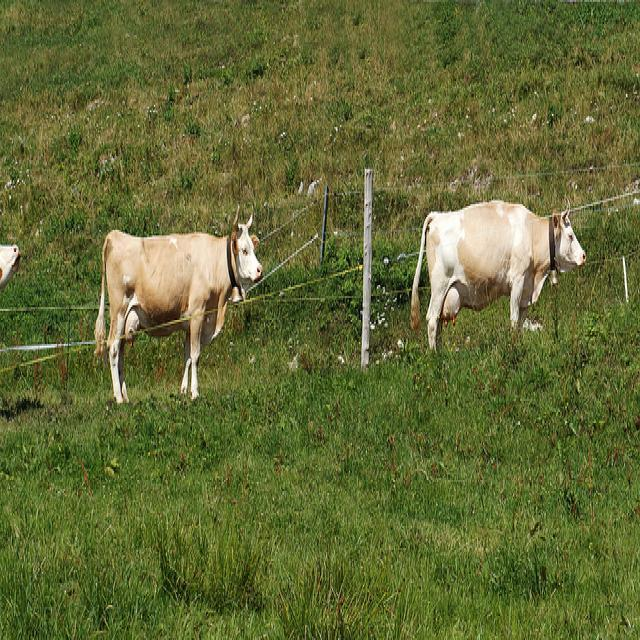cow: (91, 202, 263, 403), (408, 193, 586, 353), (0, 241, 20, 292)
